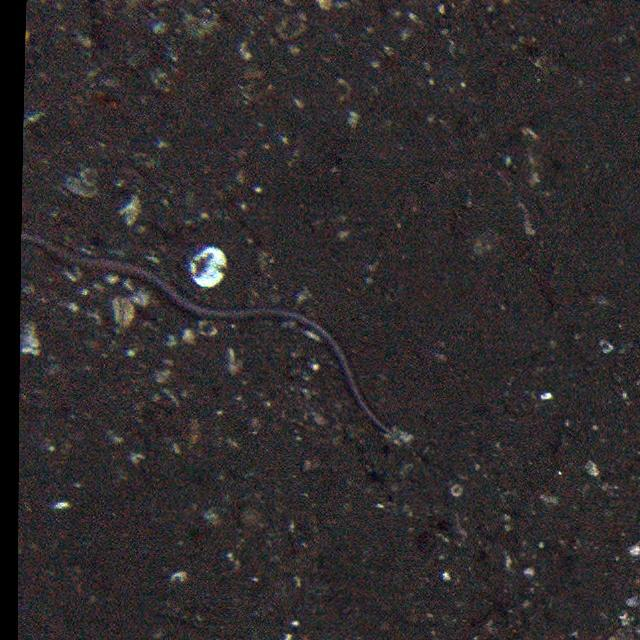eel: (21, 232, 398, 439)
